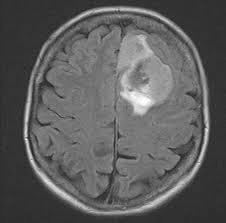Tumour-Meningioma: (99, 30, 191, 121)
